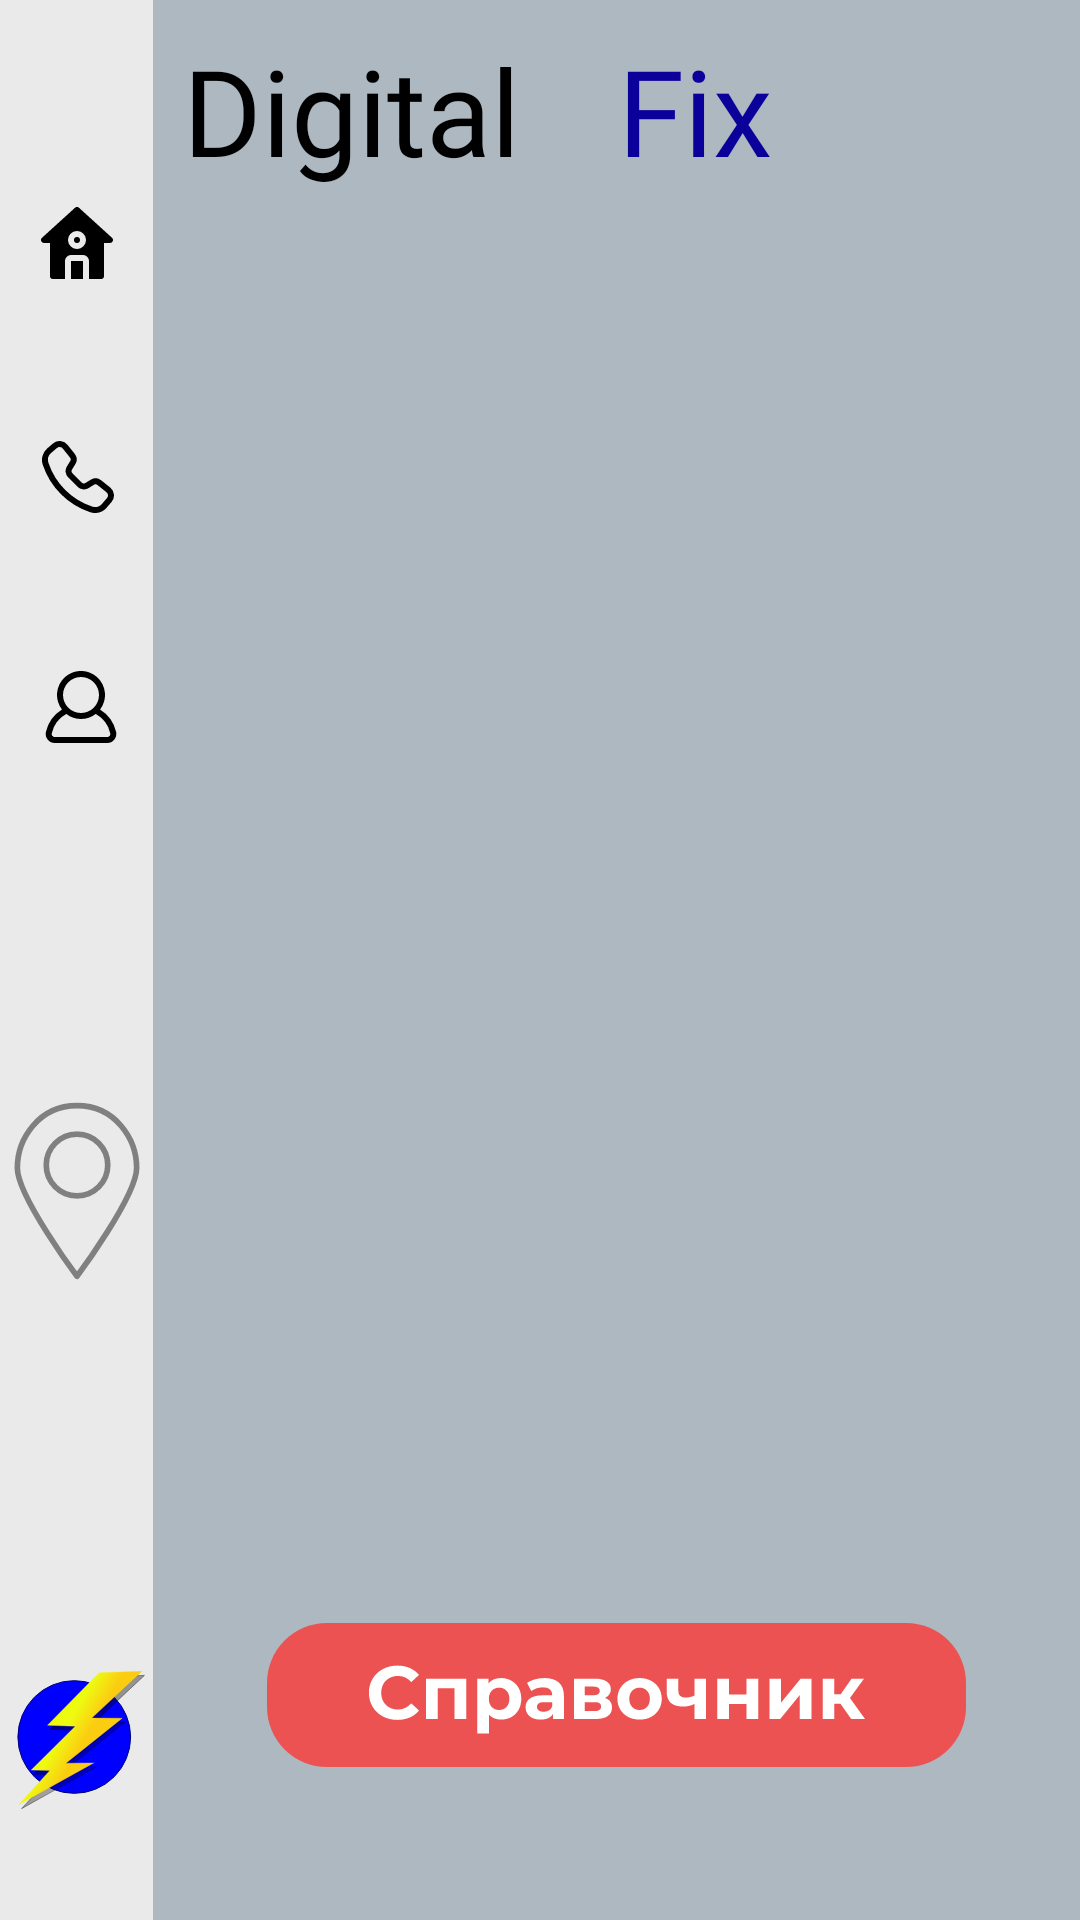

Screen size 1080px x 1920px. Icon name, then its box in pixels as [x1=x1, y1=y1, x2=x2, y2=y2]:
bolt: [x1=17, y1=1671, x2=145, y2=1809]
house: [x1=41, y1=207, x2=113, y2=279]
navigation: [x1=14, y1=1102, x2=140, y2=1279]
